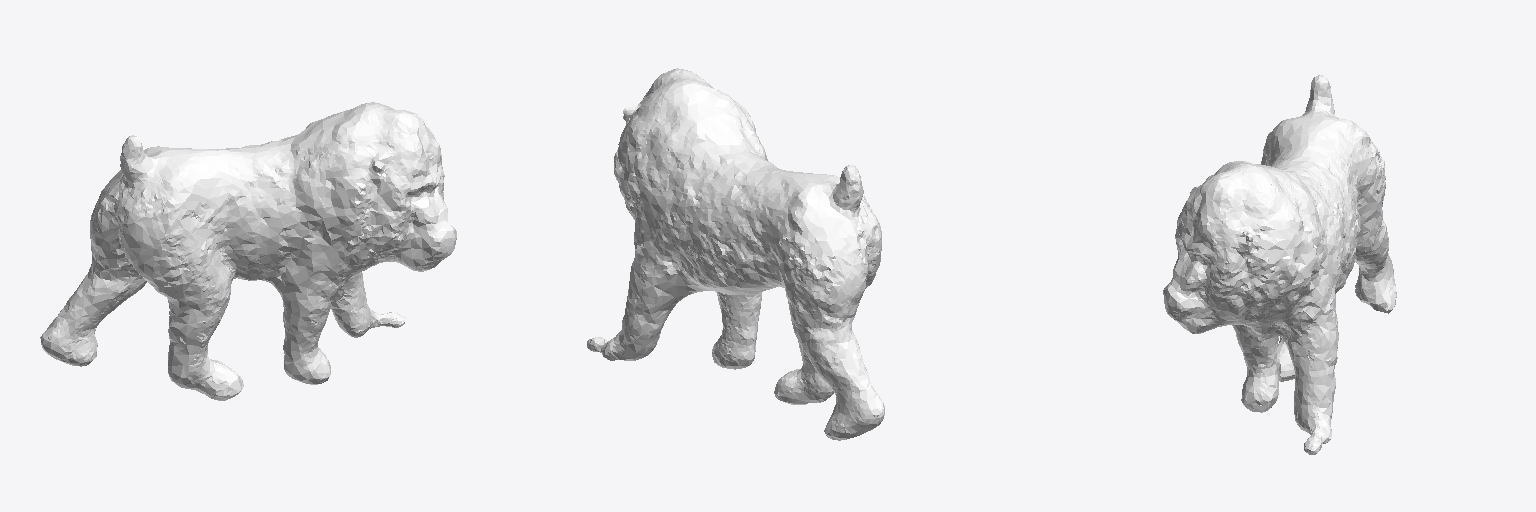
File: mandrill.obj
3 views of the same model, side by side, from view 1: azimuth 30°, elevation 25°; view 2: azimuth 150°, elevation 25°; view 3: azimuth 270°, elevation 25° (orthographic).
Visible parts, largest first — view 1: mandrill; view 2: mandrill; view 3: mandrill.
Part boxes in pixels (bbox=[...]): mandrill: bbox=[40, 102, 456, 400]; mandrill: bbox=[587, 68, 884, 440]; mandrill: bbox=[1163, 75, 1396, 454].
Bounding box in the file's own units: 0.9356 × 0.7468 × 0.5735.